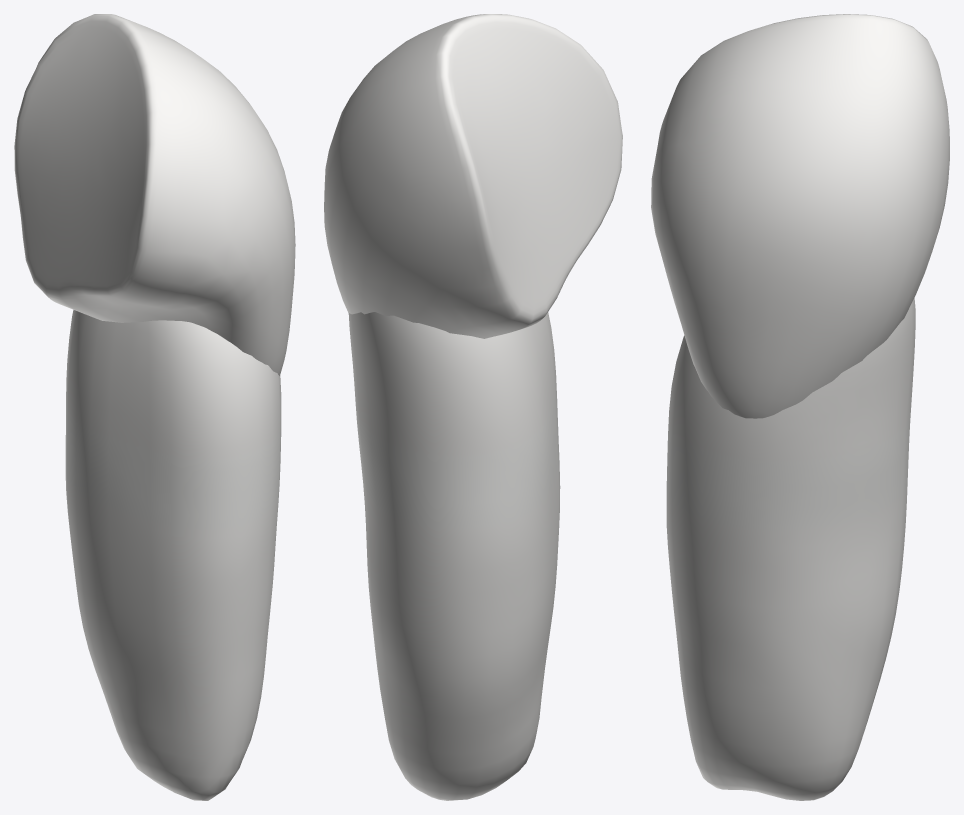
Rendered from armupleft.fbx.
3 renders of one model, left to right at view 1: azimuth 30°, elevation 25°; view 2: azimuth 150°, elevation 25°; view 3: azimuth 270°, elevation 25°, orthographic. The views are drawn at different scales.
Visible parts, largest first — view 1: armupleft; view 2: armupleft; view 3: armupleft.
Part boxes in pixels (x1=…): armupleft: x1=14, y1=14, x2=295, y2=800; armupleft: x1=324, y1=14, x2=622, y2=800; armupleft: x1=651, y1=14, x2=949, y2=800.
Size of the model in its own units: 6.42 by 22.02 by 7.78.
